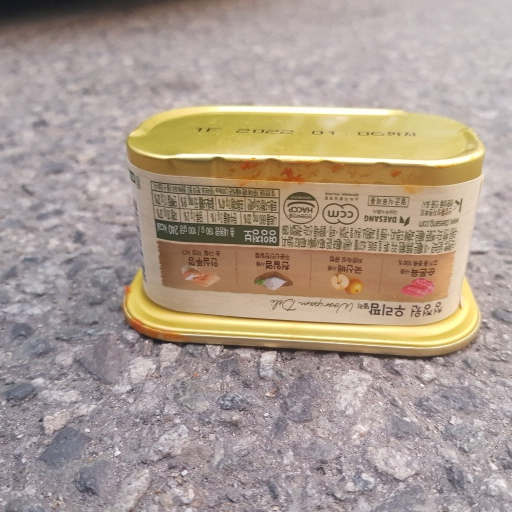Metal_2: (112, 97, 489, 359)
